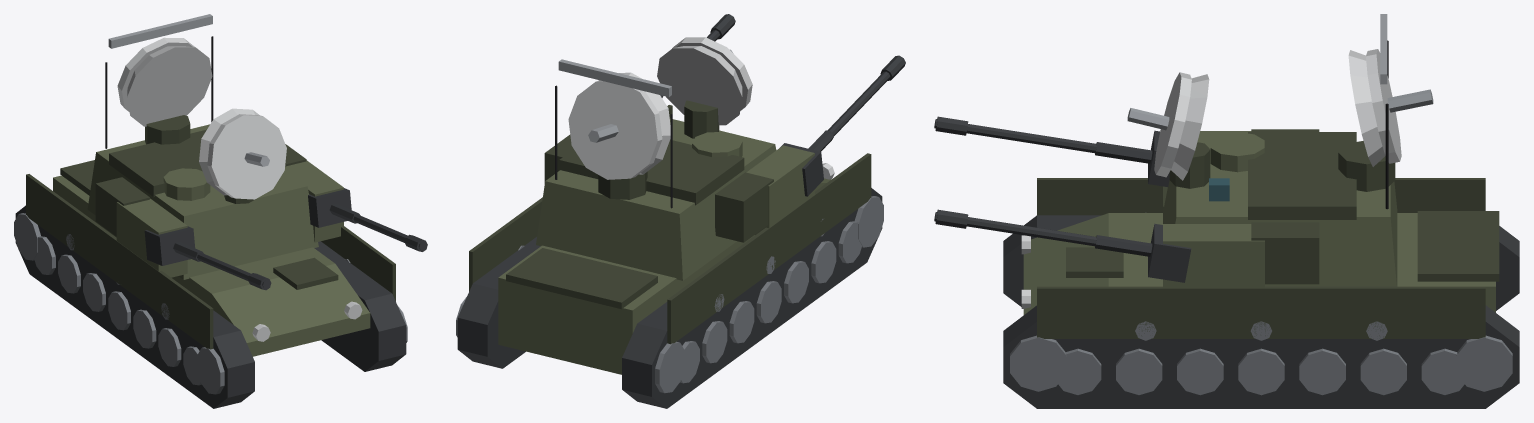
File: Unit_AntiAir.obj
3 renders of one model, left to right at view 1: azimuth 30°, elevation 25°; view 2: azimuth 150°, elevation 25°; view 3: azimuth 270°, elevation 25°, orthographic. The views are drawn at different scales.
Size of the model in its own units: 3.94 by 5.06 by 8.61.
